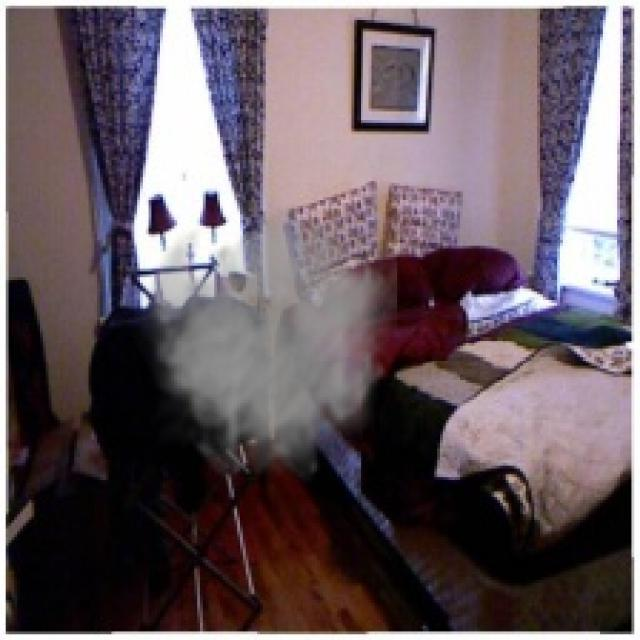Smoke: (128, 203, 398, 486)
